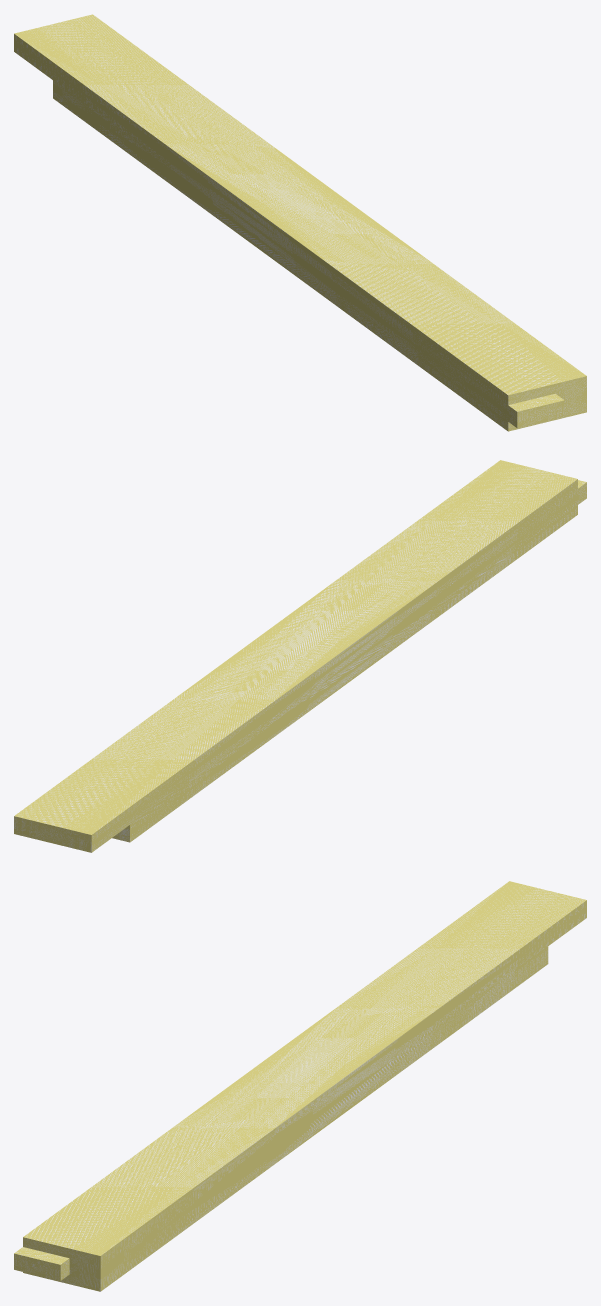
Rendered from original-37.obj.
The picture shows the model from 3 angles, top to bottom: view 1: azimuth 30°, elevation 25°; view 2: azimuth 150°, elevation 25°; view 3: azimuth 330°, elevation 25°; orthographic projection.
Visible parts, largest first — view 1: Runner2/Runner12/mesh37/mesh37-geometry#mesh37-geometry; view 2: Runner2/Runner12/mesh37/mesh37-geometry#mesh37-geometry; view 3: Runner2/Runner12/mesh37/mesh37-geometry#mesh37-geometry.
Boxes of the visible parts, box(x1,y1,x2,y2) form: Runner2/Runner12/mesh37/mesh37-geometry#mesh37-geometry: box(14, 14, 586, 431); Runner2/Runner12/mesh37/mesh37-geometry#mesh37-geometry: box(14, 460, 586, 852); Runner2/Runner12/mesh37/mesh37-geometry#mesh37-geometry: box(14, 881, 586, 1291).
Bounding box in the file's own units: 0.0525 × 0.0231 × 0.5808.
